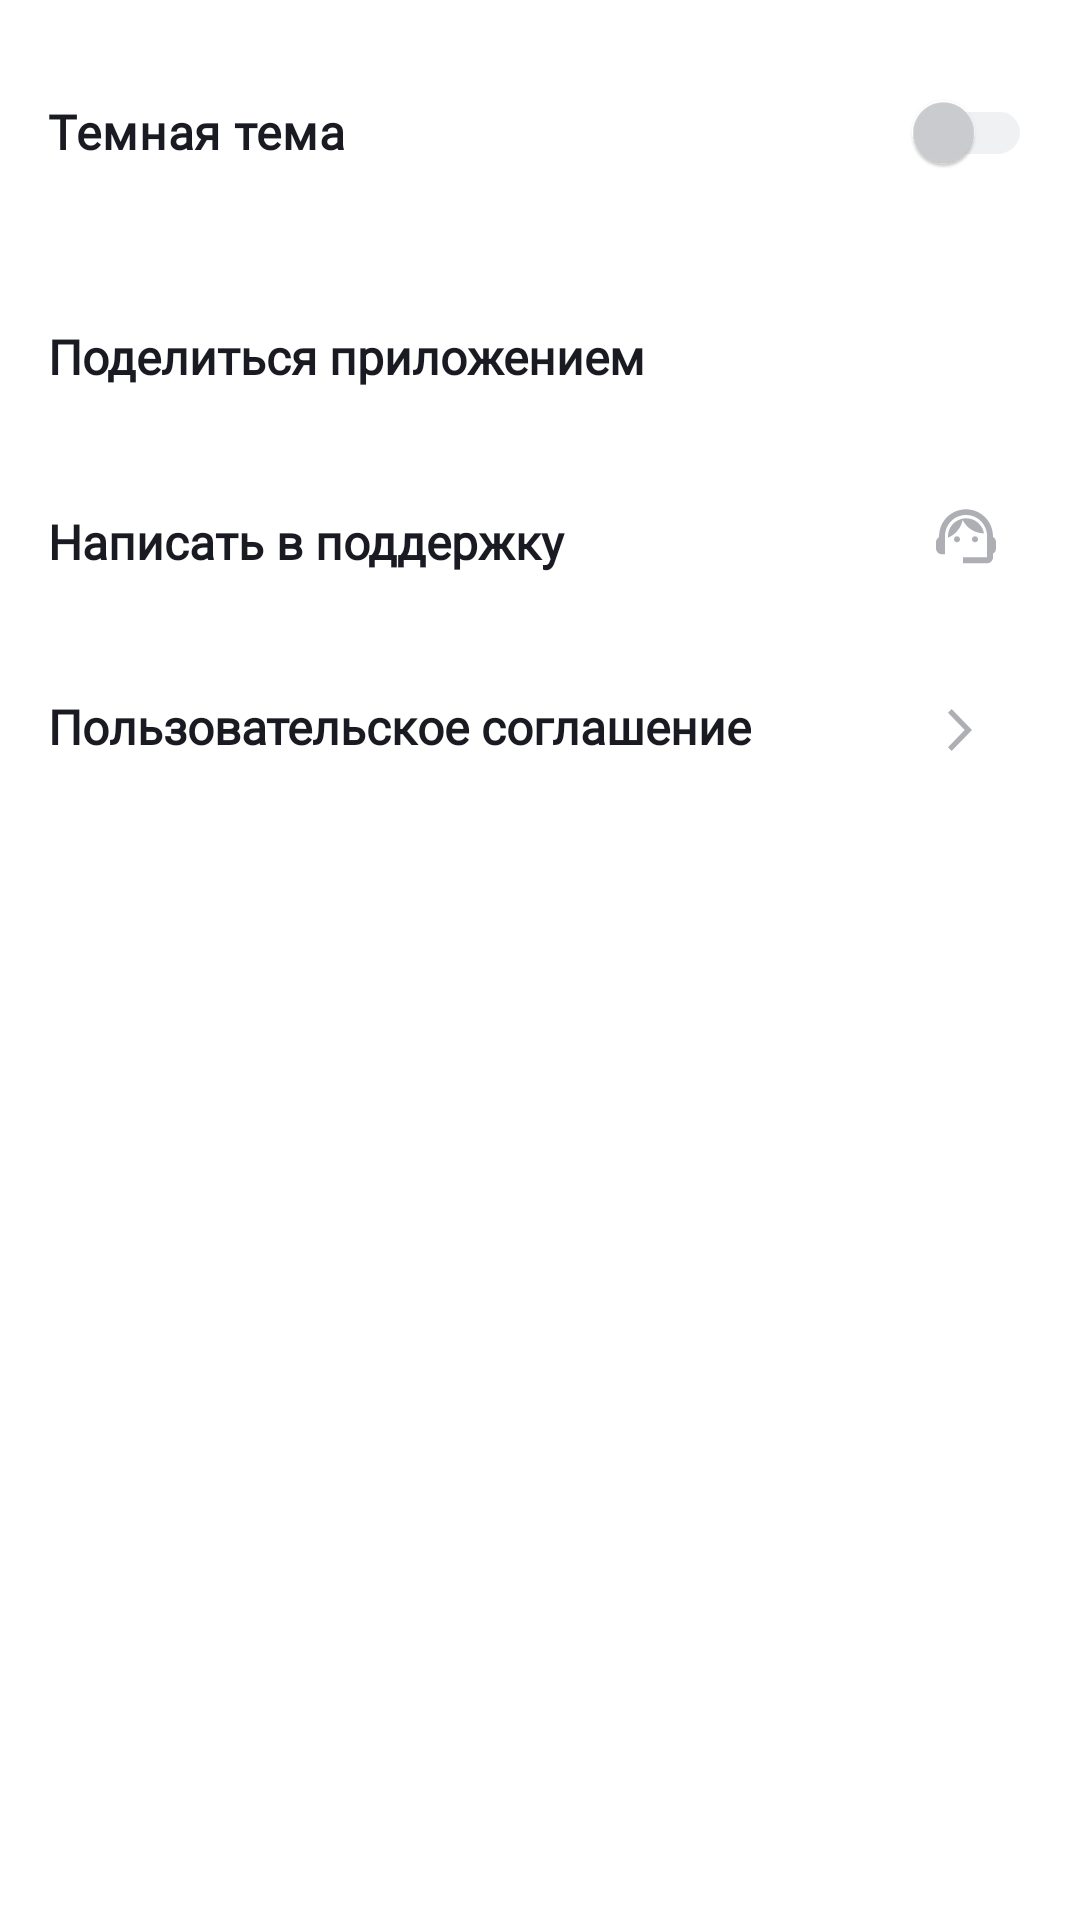

Icons on this 1080x1920 Android screen, each with the point to tap as [x,y]:
Support: [966,536]
